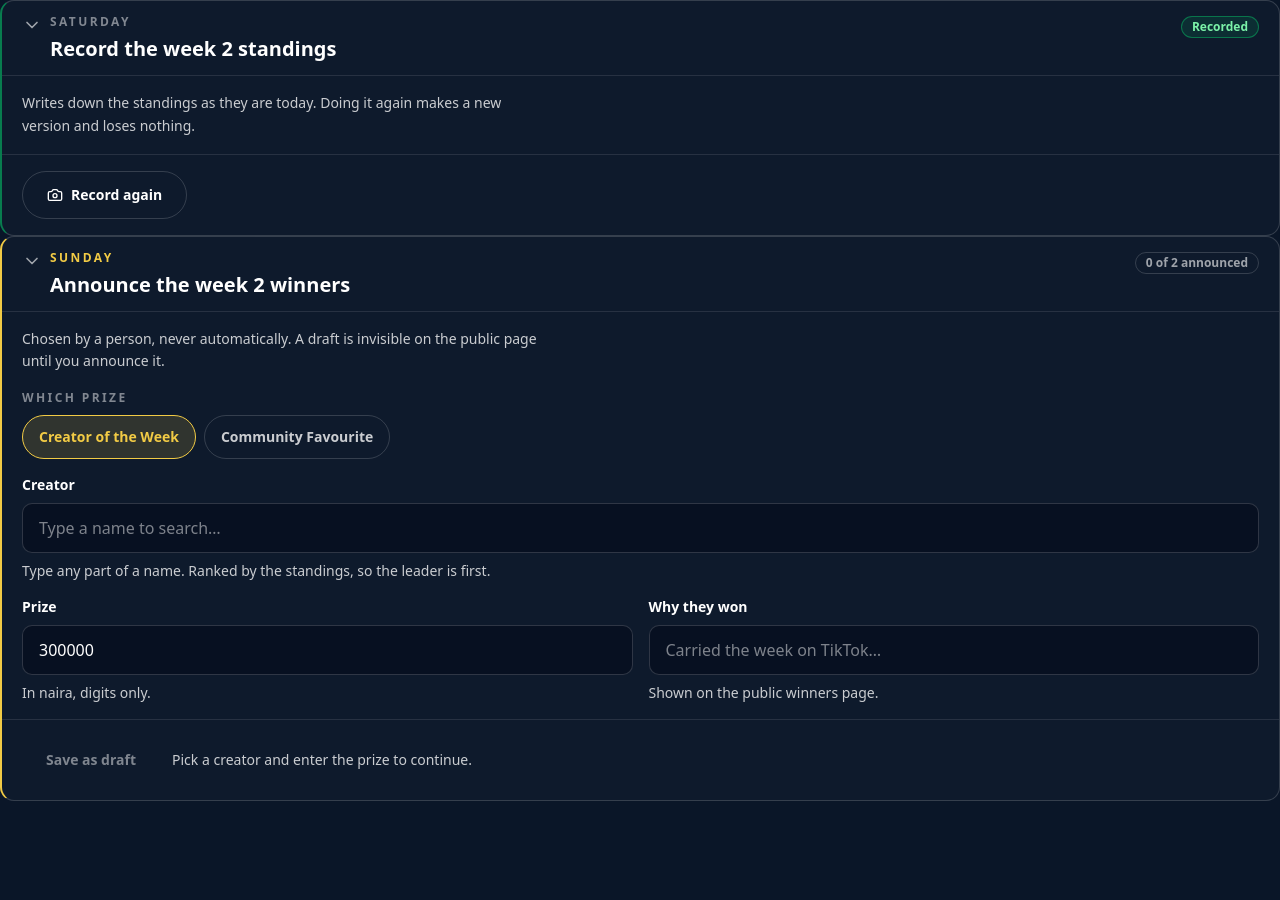
Test case: announcing Creator of the Week › sends nothing on Cancel
Type "amara" into the dropdown at (640, 528), box [22,503,1259,553]
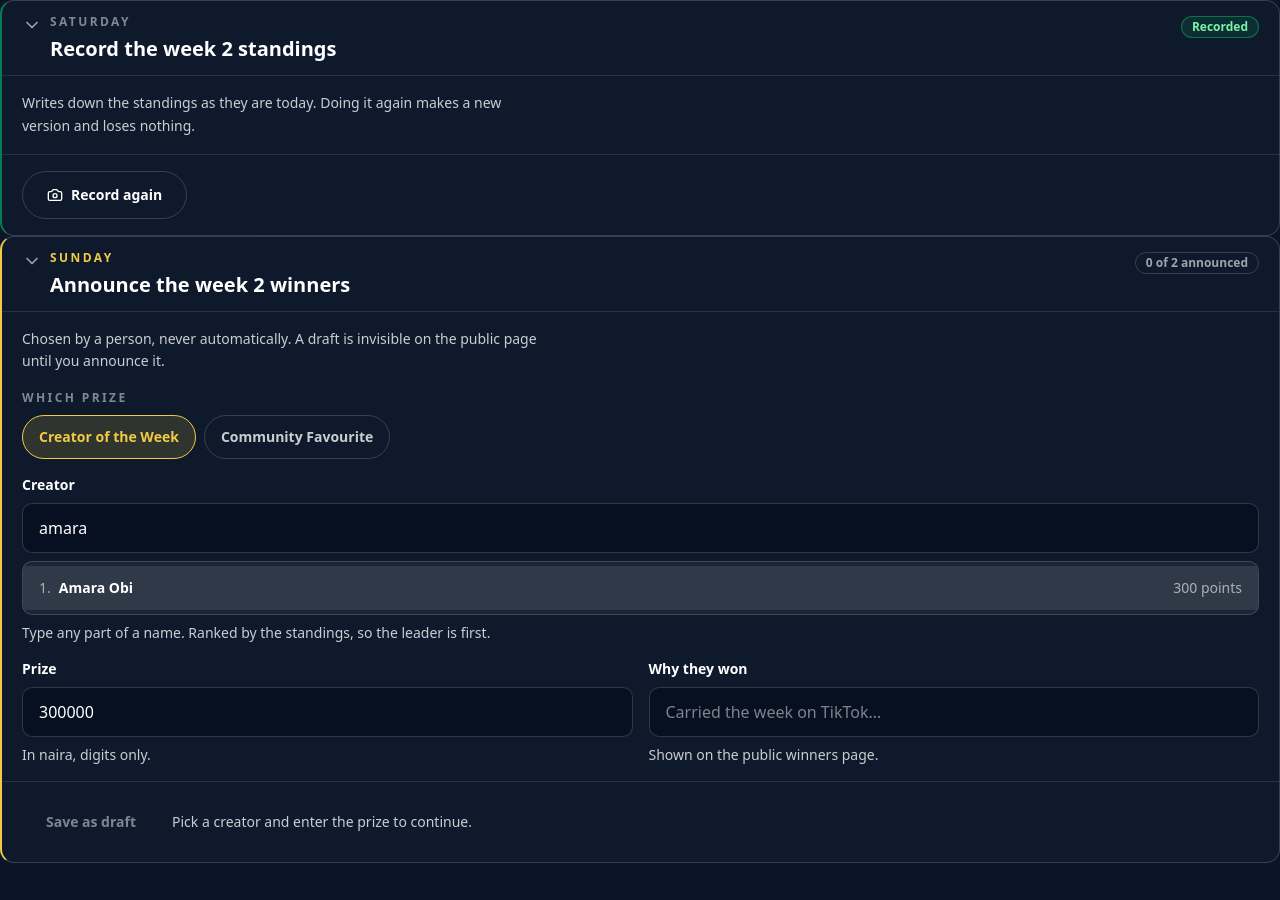
Press the mouse on the option "1. Amara Obi 300 points" at (96, 588), box [23,566,1258,610]
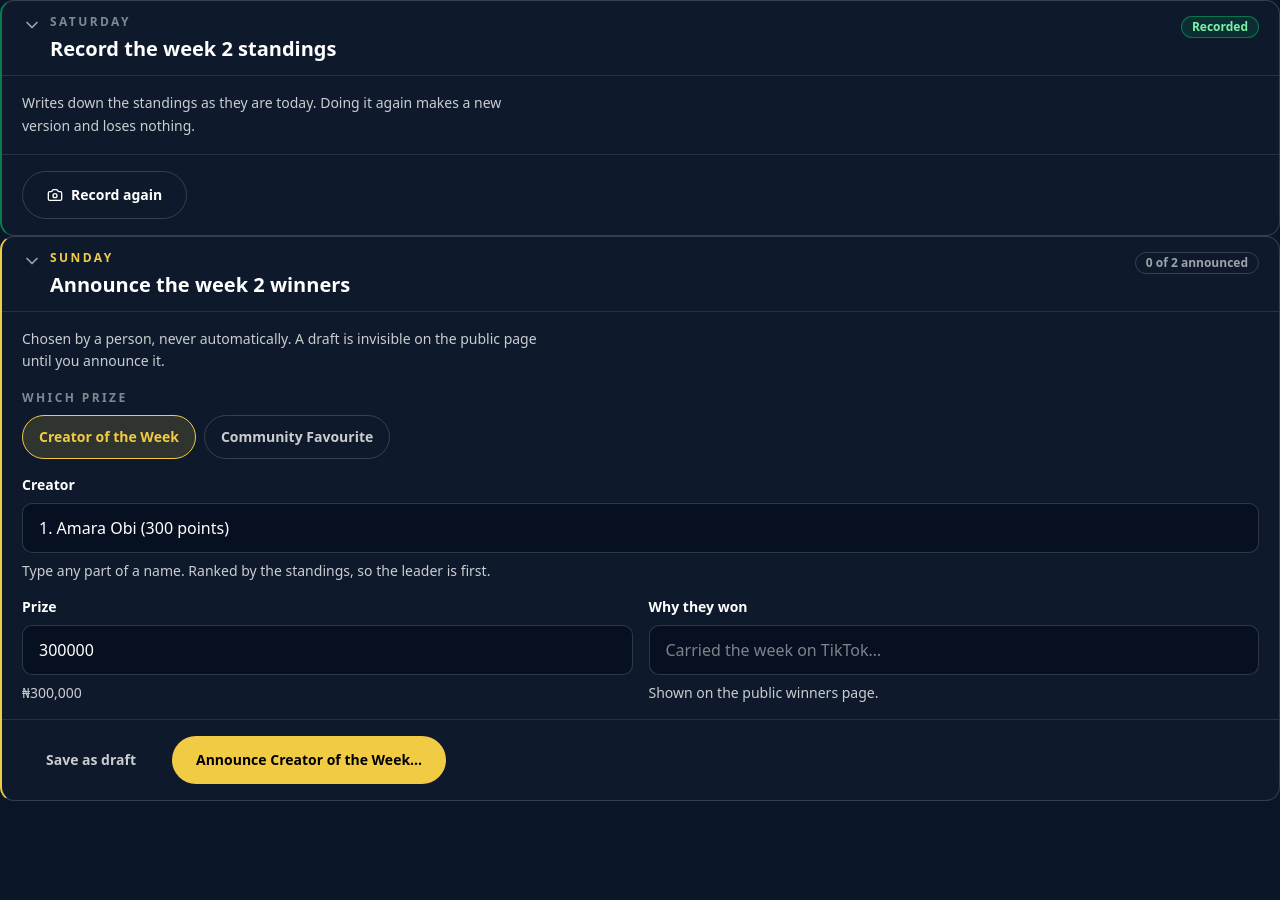
Click the button "Announce Creator of the Week…" at (309, 760), box [172,736,446,784]
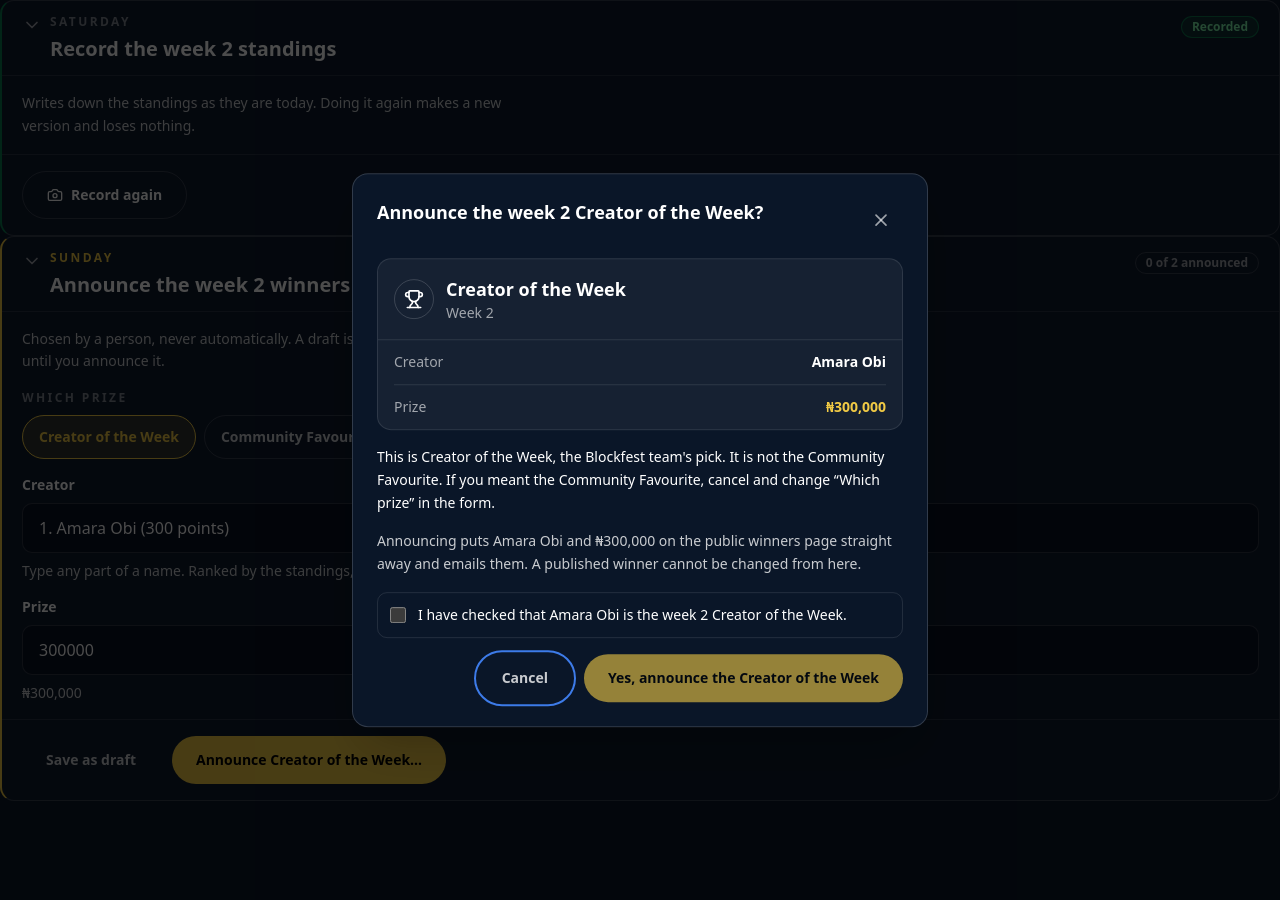
Click the button "Cancel" at (525, 678), box [478,654,572,702]
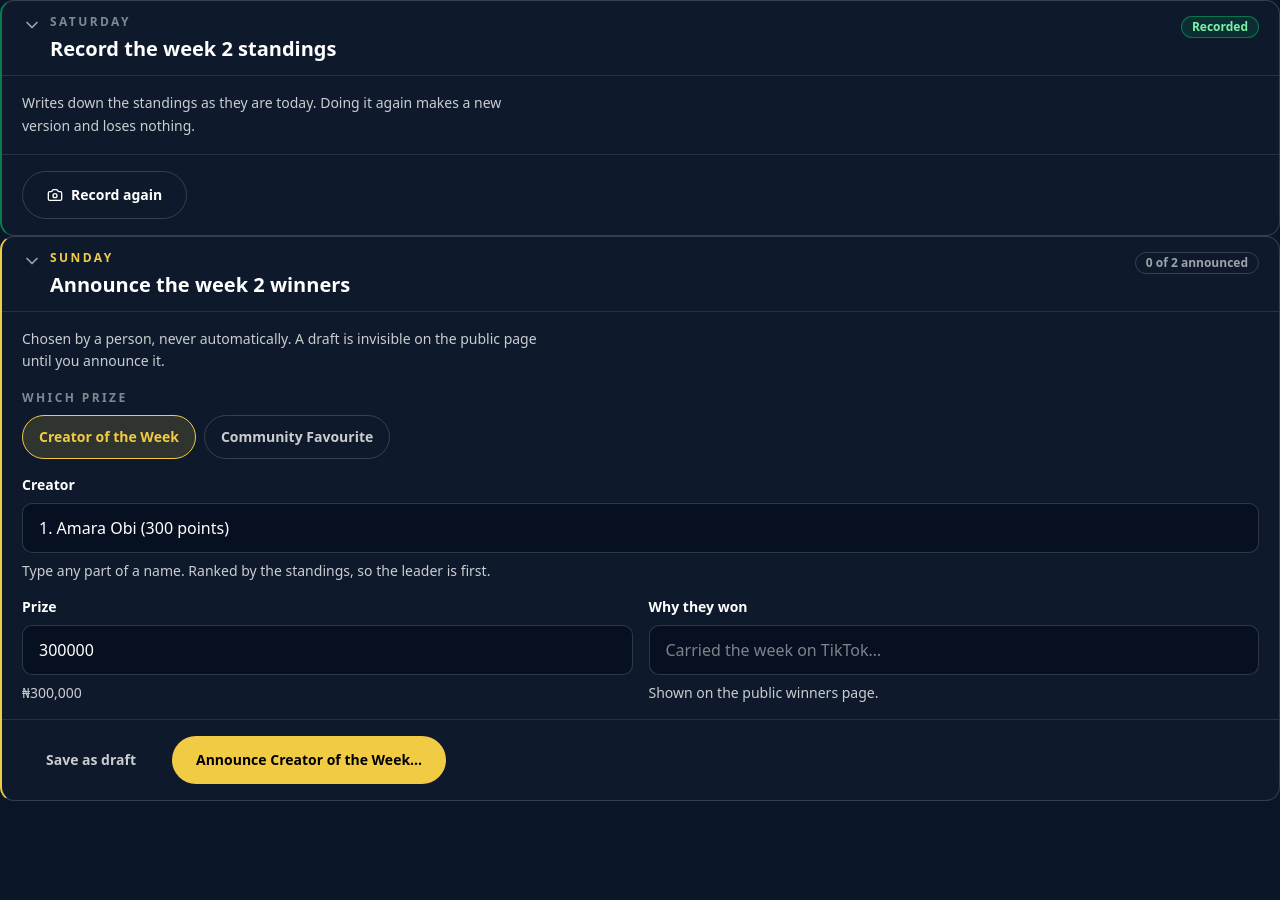
Result: the dialog is gone
